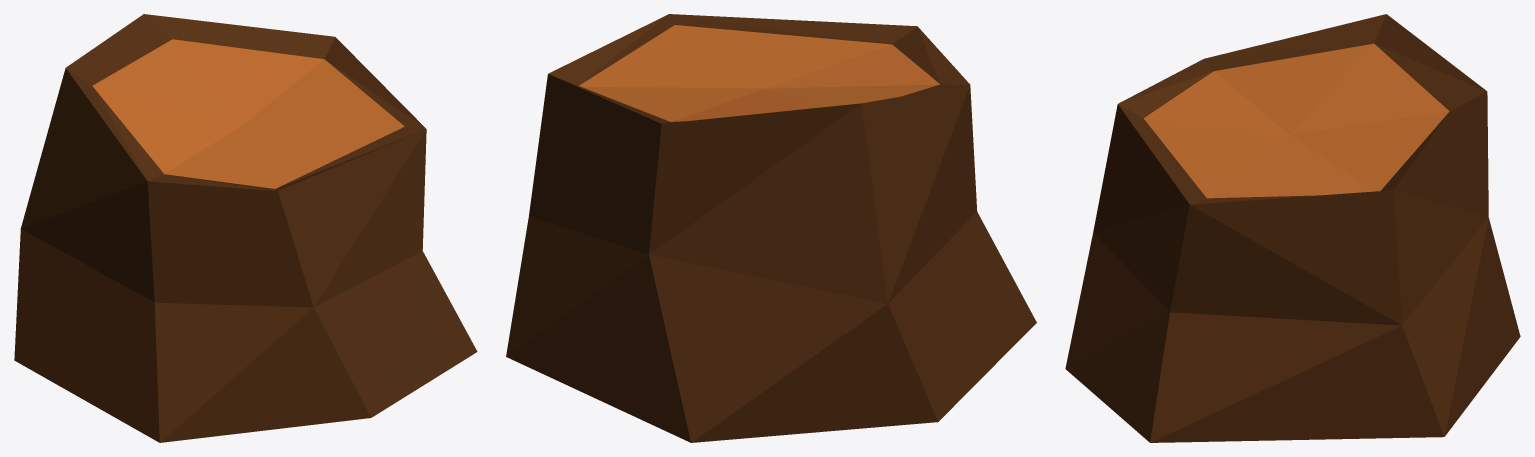
The model's file is Stump00.fbx.
The picture shows the model from 3 angles, left to right: view 1: azimuth 30°, elevation 25°; view 2: azimuth 150°, elevation 25°; view 3: azimuth 270°, elevation 25°; orthographic projection. The views are drawn at different scales.
Parts seen in each view (by area): view 1: Stump00; view 2: Stump00; view 3: Stump00.
Part boxes in pixels (<box>): Stump00: <box>14,14,477,442</box>; Stump00: <box>506,14,1036,442</box>; Stump00: <box>1065,14,1520,442</box>.
Bounding box in the file's own units: 92.55 × 68.72 × 99.59.
